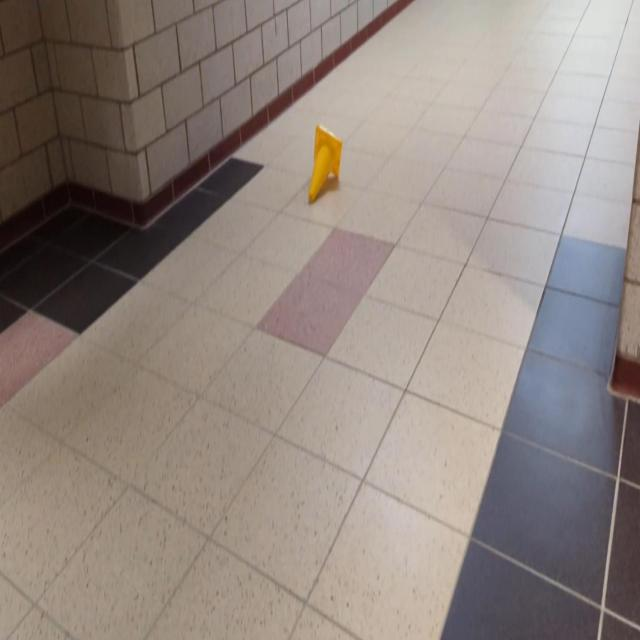frc_cone: (309, 123, 342, 204)
